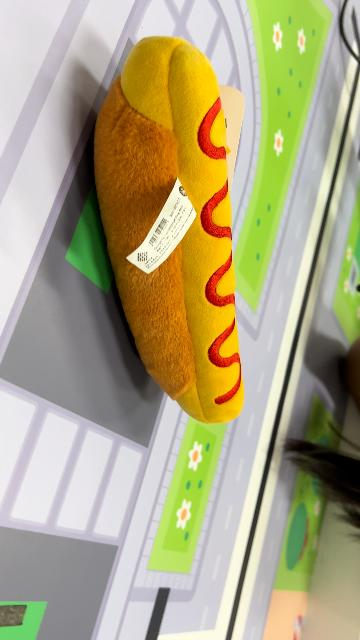hotdog: (92, 34, 246, 426)
